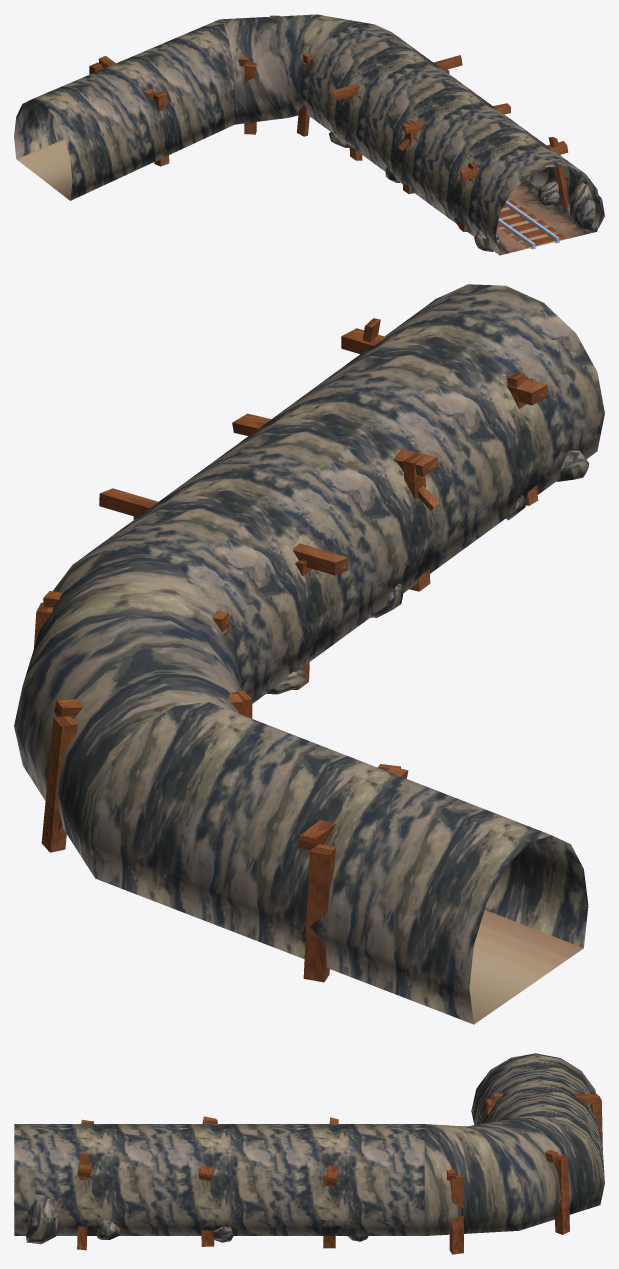
Rendered from abandoned_mine.glb.
3 renders of one model, top to bottom at view 1: azimuth 30°, elevation 25°; view 2: azimuth 150°, elevation 25°; view 3: azimuth 270°, elevation 25°, orthographic. The views are drawn at different scales.
Visible parts, largest first — view 1: Cylinder_2, Cube_0, Cube.013_24, Cube.011_22, Cube.002_5; view 2: Cylinder_2, Cube_0; view 3: Cylinder_2, Cube_0, Cube.011_22, Cube.002_5.
Boxes of the visible parts, bbox=[...] form: Cylinder_2: bbox=[14, 14, 601, 255]; Cube_0: bbox=[89, 15, 569, 231]; Cube.013_24: bbox=[497, 200, 565, 249]; Cube.011_22: bbox=[569, 182, 604, 228]; Cube.002_5: bbox=[537, 181, 559, 205]; Cylinder_2: bbox=[14, 284, 604, 1024]; Cube_0: bbox=[34, 318, 547, 982]; Cylinder_2: bbox=[14, 1053, 604, 1235]; Cube_0: bbox=[77, 1093, 602, 1254]; Cube.011_22: bbox=[24, 1194, 59, 1244]; Cube.002_5: bbox=[97, 1220, 120, 1239].
Bounding box in the file's own units: 17.87 × 6.84 × 26.61.
9 materials, 4 textured.
